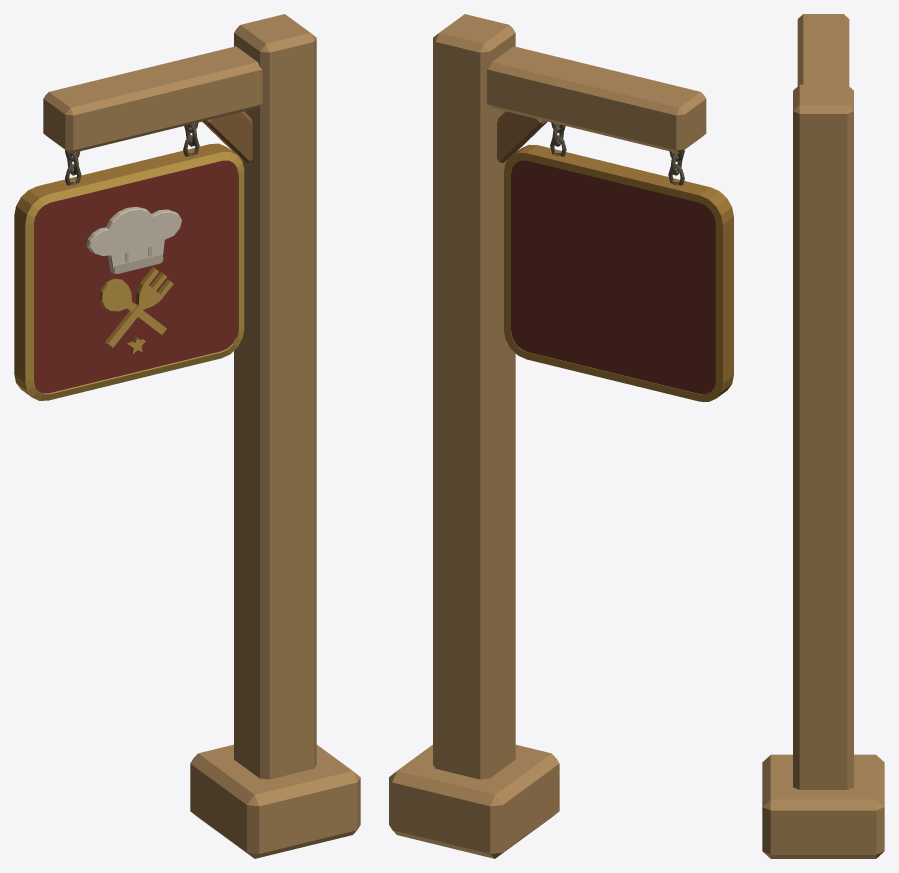
File: chef_sign_a.glb
3 views of the same model, side by side, from view 1: azimuth 30°, elevation 25°; view 2: azimuth 150°, elevation 25°; view 3: azimuth 270°, elevation 25° (orthographic). The views are drawn at different scales.
Visible parts, largest first — view 1: chef_sign_a; view 2: chef_sign_a; view 3: chef_sign_a.
Part boxes in pixels (x1,y1,x2,y2): chef_sign_a: (14, 14, 360, 858); chef_sign_a: (389, 14, 733, 858); chef_sign_a: (762, 14, 884, 858).
Size of the model in its own units: 0.712 by 1.74 by 0.26.
